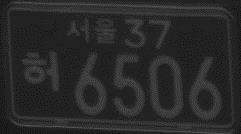0: (147, 54, 184, 120)
3: (123, 17, 146, 50)
5: (111, 52, 145, 119)
6: (188, 54, 223, 122), (74, 49, 109, 116)
7: (146, 17, 173, 51)
서울_O: (66, 16, 118, 48)
허: (21, 49, 63, 93)
